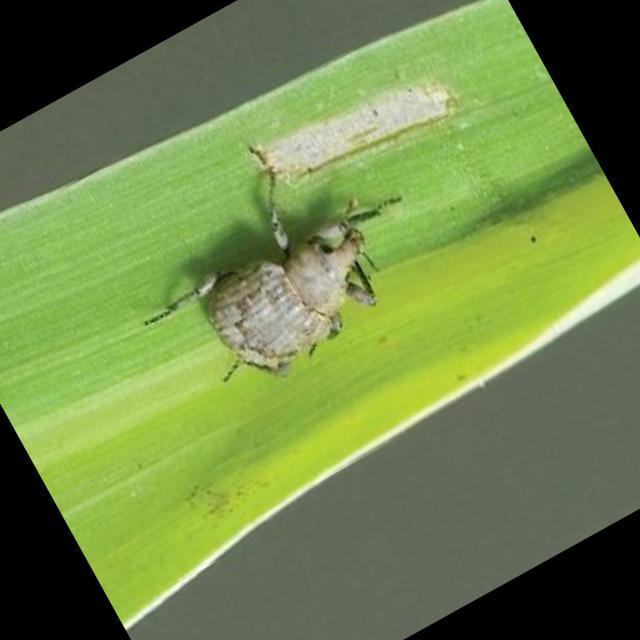rice-bug: (115, 138, 412, 418)
